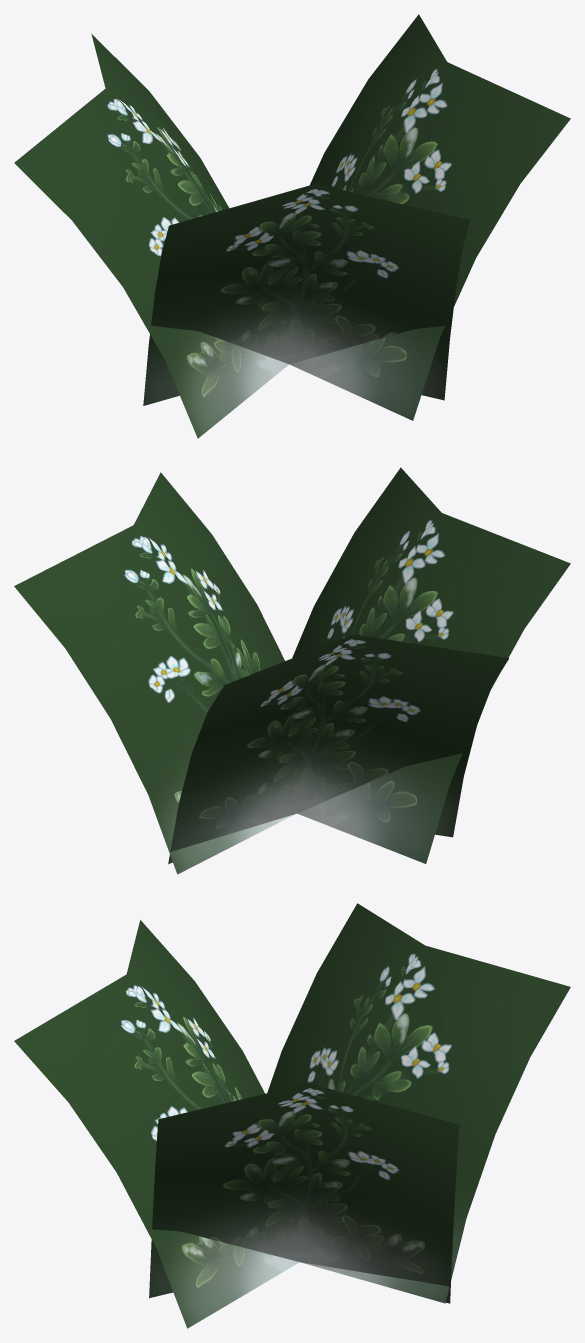
Rendered from Grass_3_snow.FBX.
The picture shows the model from 3 angles, top to bottom: view 1: azimuth 30°, elevation 25°; view 2: azimuth 150°, elevation 25°; view 3: azimuth 270°, elevation 25°; orthographic projection. The views are drawn at different scales.
Visible parts, largest first — view 1: Grass_3_snow; view 2: Grass_3_snow; view 3: Grass_3_snow.
Part boxes in pixels (left/top/right/bottom): Grass_3_snow: left=14, top=14, right=570, bottom=438; Grass_3_snow: left=14, top=467, right=570, bottom=874; Grass_3_snow: left=14, top=903, right=570, bottom=1328.
Size of the model in its own units: 118 by 125 by 68.42.
